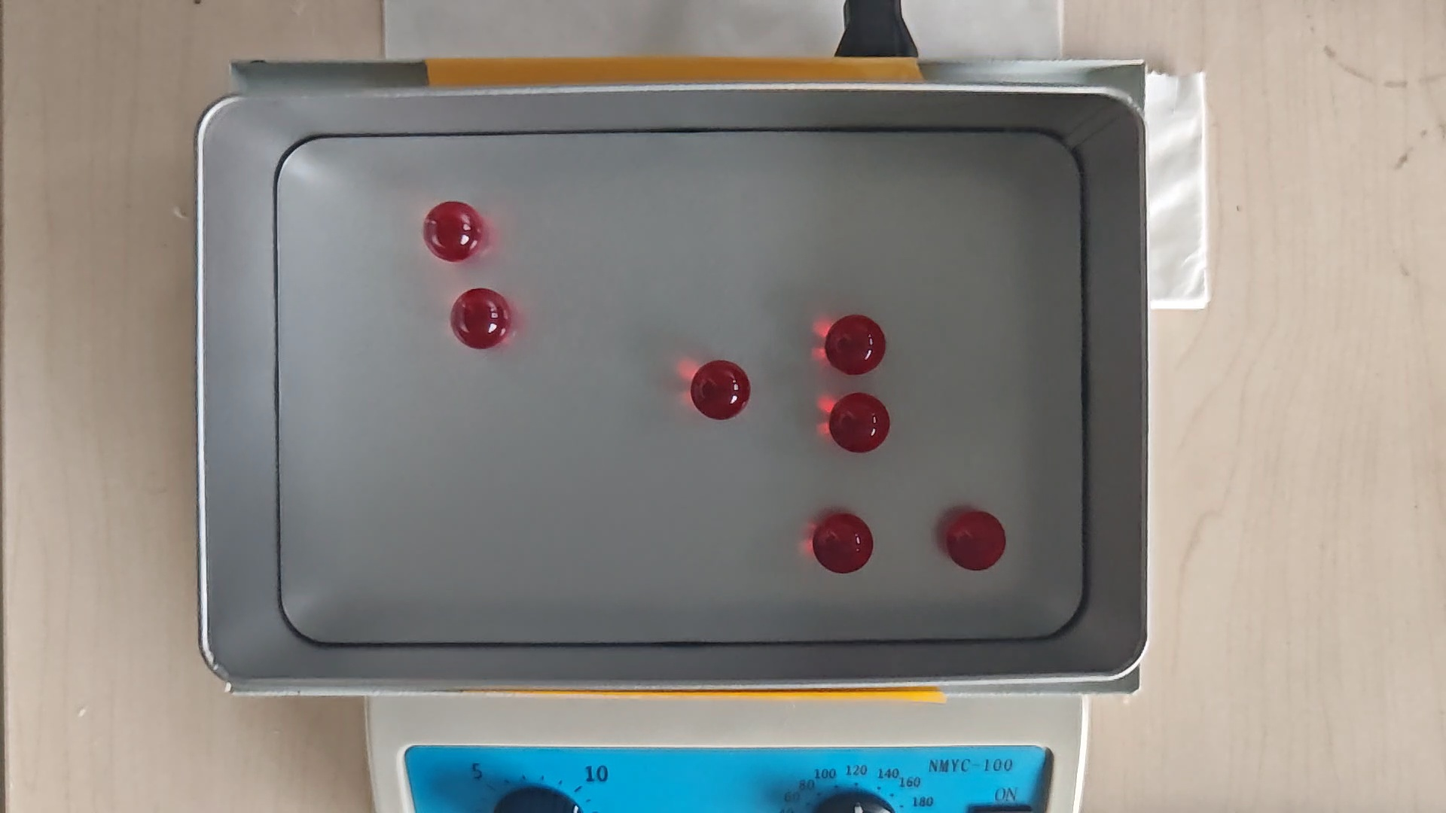ball: (690, 360, 752, 422), (421, 200, 484, 260), (825, 312, 885, 374), (452, 289, 511, 349), (829, 391, 889, 450), (947, 511, 1005, 570), (816, 515, 872, 573)
container: (273, 130, 1085, 647)
